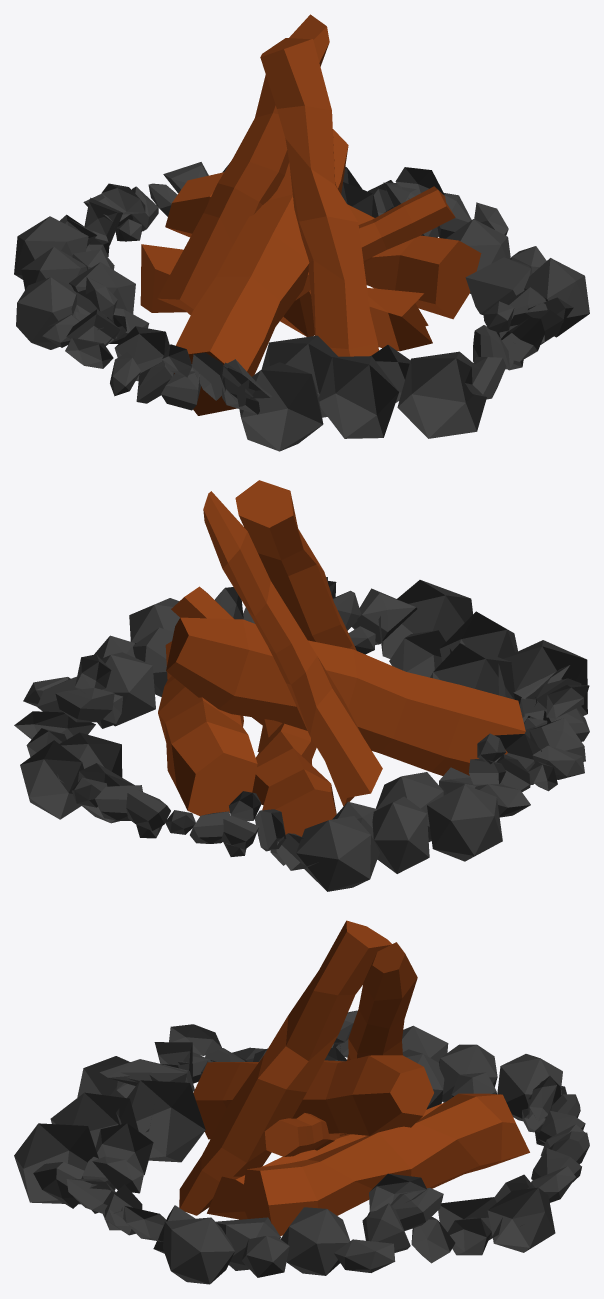
Rendered from Bonfire sola.fbx.
3 renders of one model, top to bottom at view 1: azimuth 30°, elevation 25°; view 2: azimuth 150°, elevation 25°; view 3: azimuth 270°, elevation 25°, orthographic. The views are drawn at different scales.
Visible parts, largest first — view 1: Hoguera; view 2: Hoguera; view 3: Hoguera.
Part boxes in pixels (left/top/right/bottom): Hoguera: left=14, top=14, right=589, bottom=451; Hoguera: left=14, top=480, right=589, bottom=891; Hoguera: left=14, top=920, right=589, bottom=1284.
Size of the model in its own units: 200 by 122 by 219.
